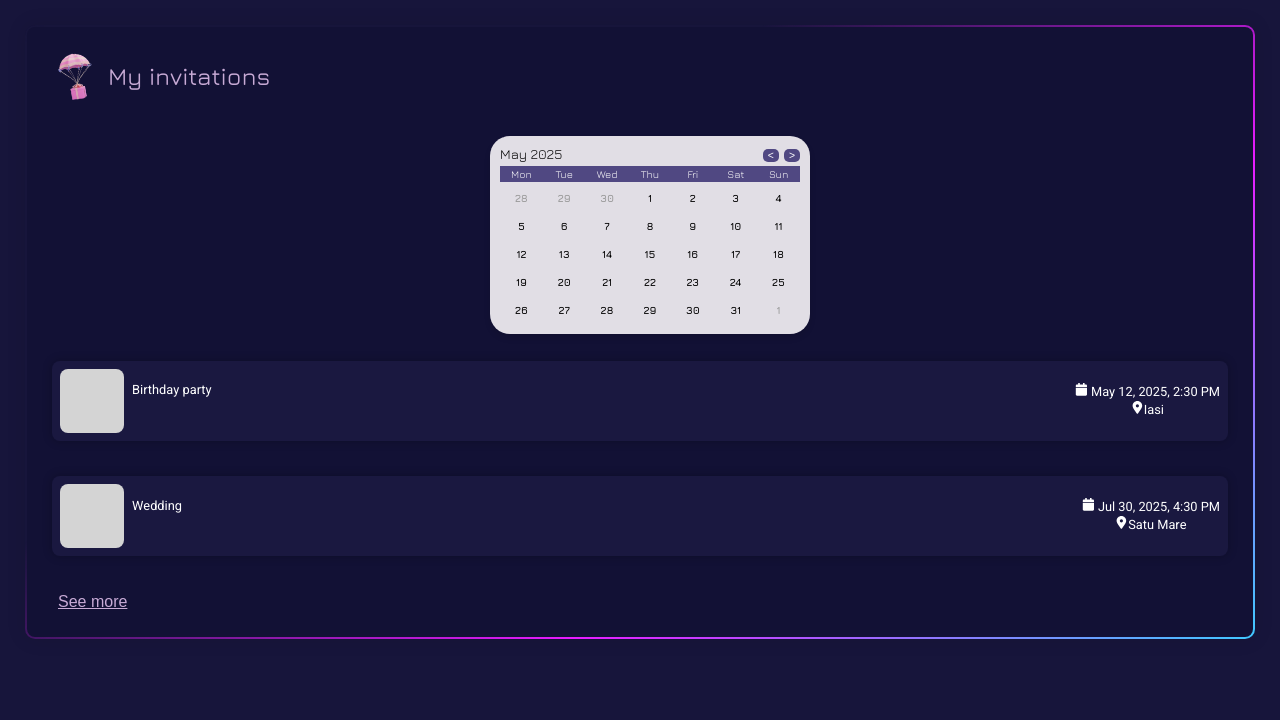
UpcomingEventsSection › renders modal when 'See more' is clicked
Click the button "See more". click: {"x": 93, "y": 602}
box: [52, 592, 133, 612]
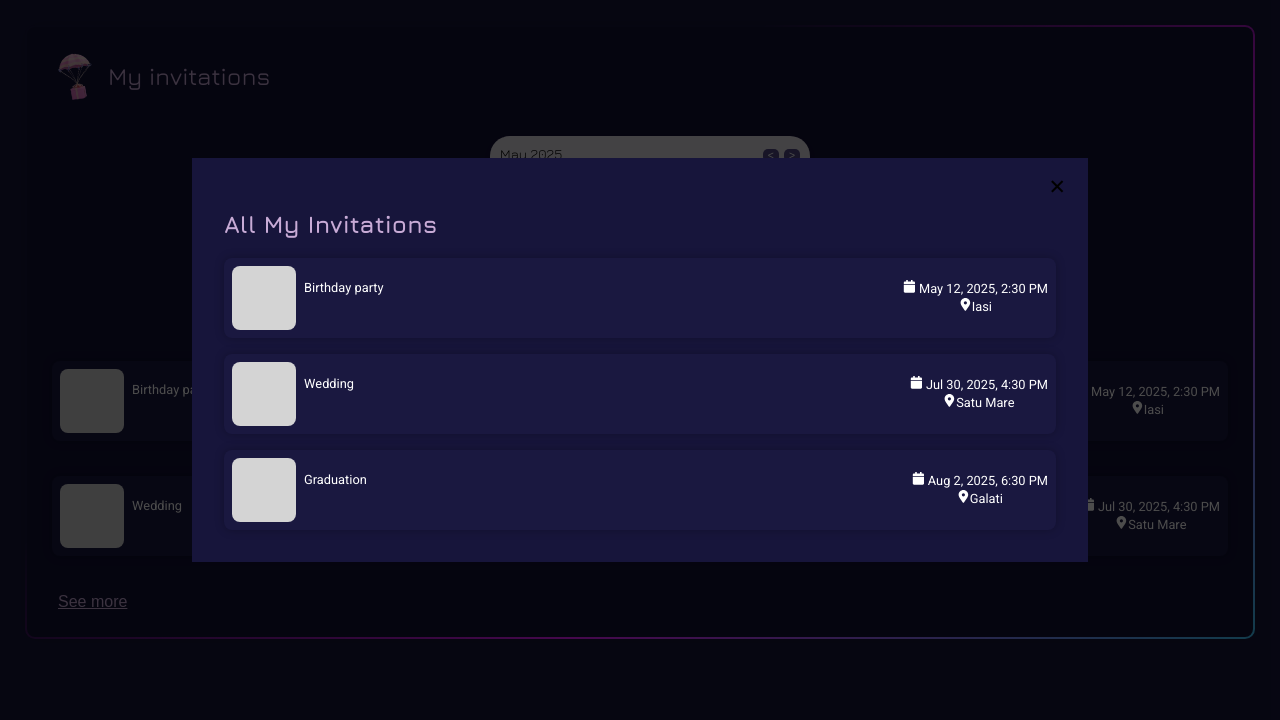
Check: the heading "All My Invitations" is shown, box [224, 210, 438, 238]
